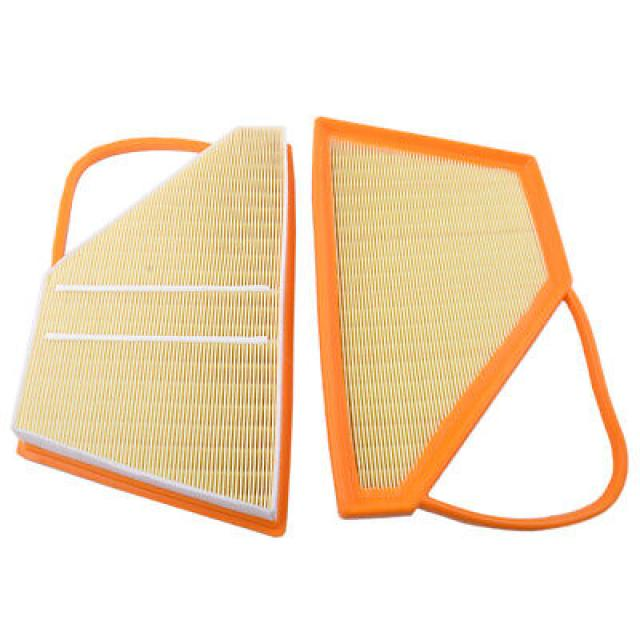air_filter: (307, 107, 640, 531), (3, 113, 298, 547)
